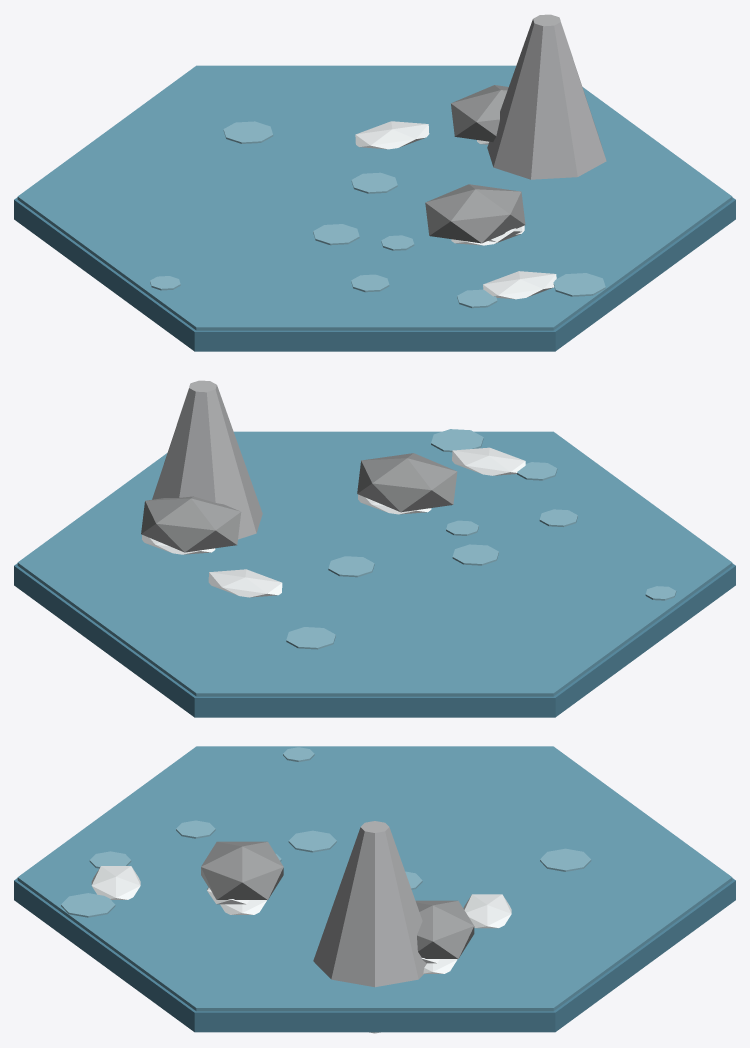
The model's file is water_to_mountain.glb.
3 views of the same model, one above another, from view 1: azimuth 30°, elevation 25°; view 2: azimuth 150°, elevation 25°; view 3: azimuth 270°, elevation 25° (orthographic).
Parts seen in each view (by area): view 1: plate; view 2: plate; view 3: plate.
Boxes of the visible parts, x1,y1,x2,y2 form: plate: (14,14,735,351); plate: (14,380,735,717); plate: (14,746,735,1033).
Bounding box in the file's own units: 1.73 × 0.51 × 2.
